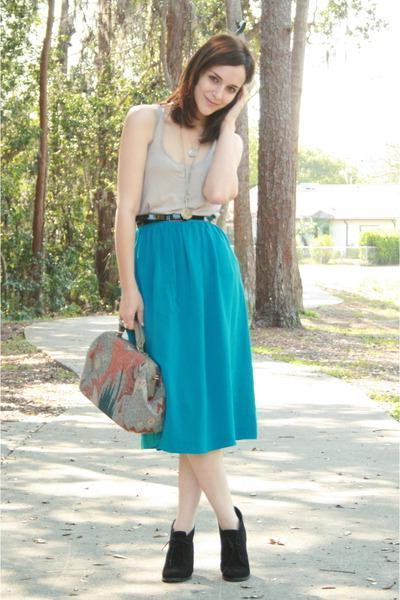skirt: (126, 217, 260, 454)
vest: (129, 96, 238, 221)
